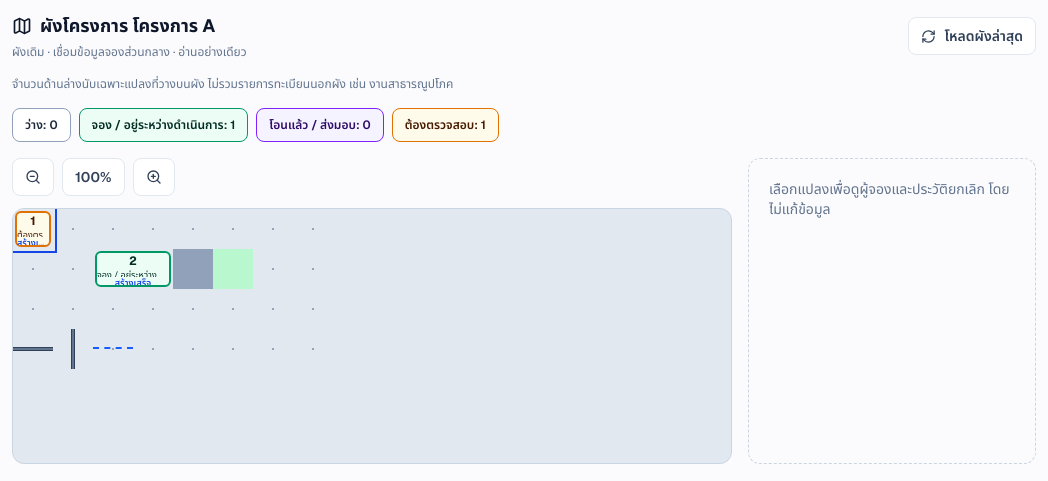
Test: central booking read-only project map › marks ambiguous occupied plots for review and exposes native buttons and zoom
Click the button with aria-label "แปลง 1 — ต้องตรวจสอบ": (33, 229) top-left (13, 209), bottom-right (53, 249)
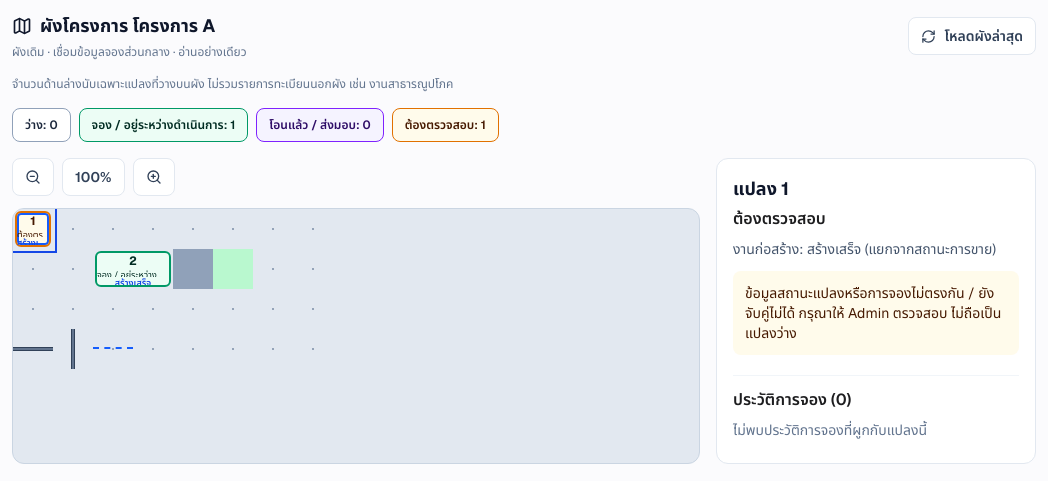
Now the text "ไม่ถือเป็นแปลงว่าง" is shown, box top-left (745, 284), bottom-right (1001, 342)
Click the button named "ขยายผัง": (154, 177) top-left (132, 158), bottom-right (174, 196)
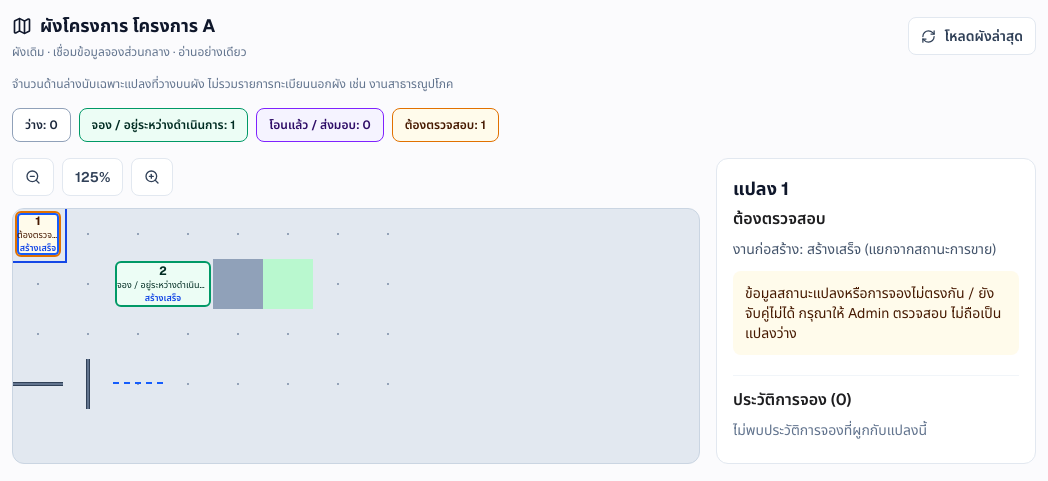
Now the button named "คืนขนาดผัง 100%" reads "125%", box top-left (62, 158), bottom-right (124, 196)
Click the button named "ย่อผัง": (33, 177) top-left (12, 158), bottom-right (54, 196)
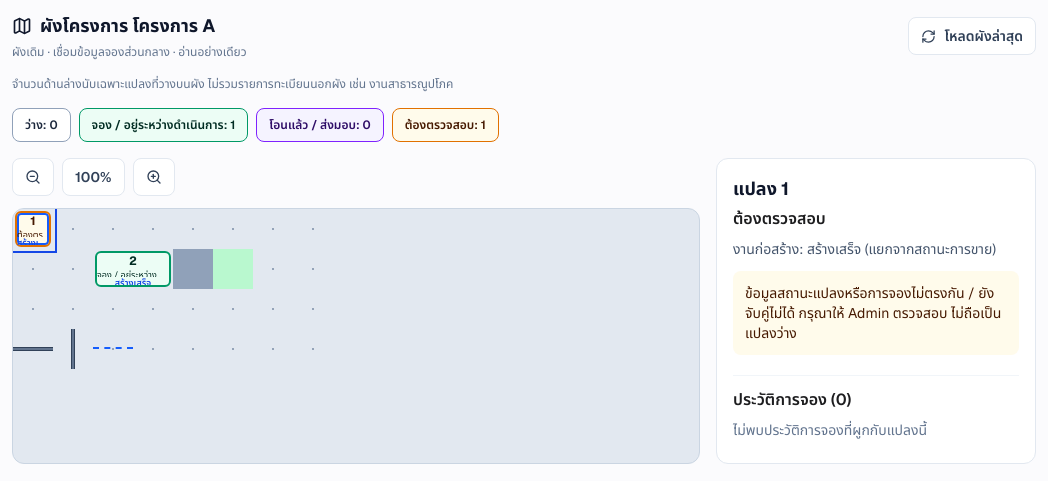
Now the button named "คืนขนาดผัง 100%" reads "100%", box top-left (62, 158), bottom-right (124, 196)
